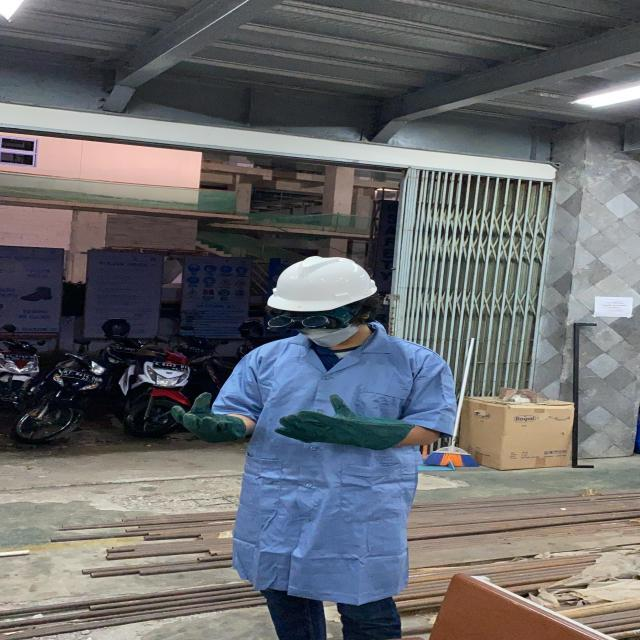glasses: (260, 311, 364, 333)
